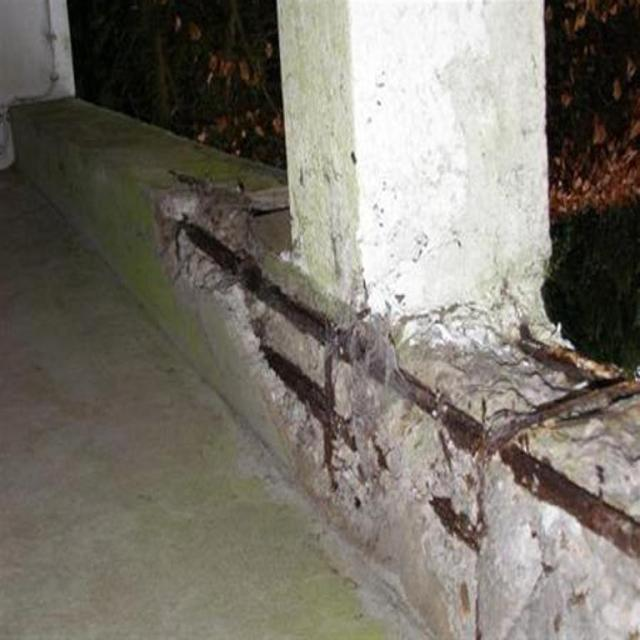spalling: (157, 187, 639, 639)
